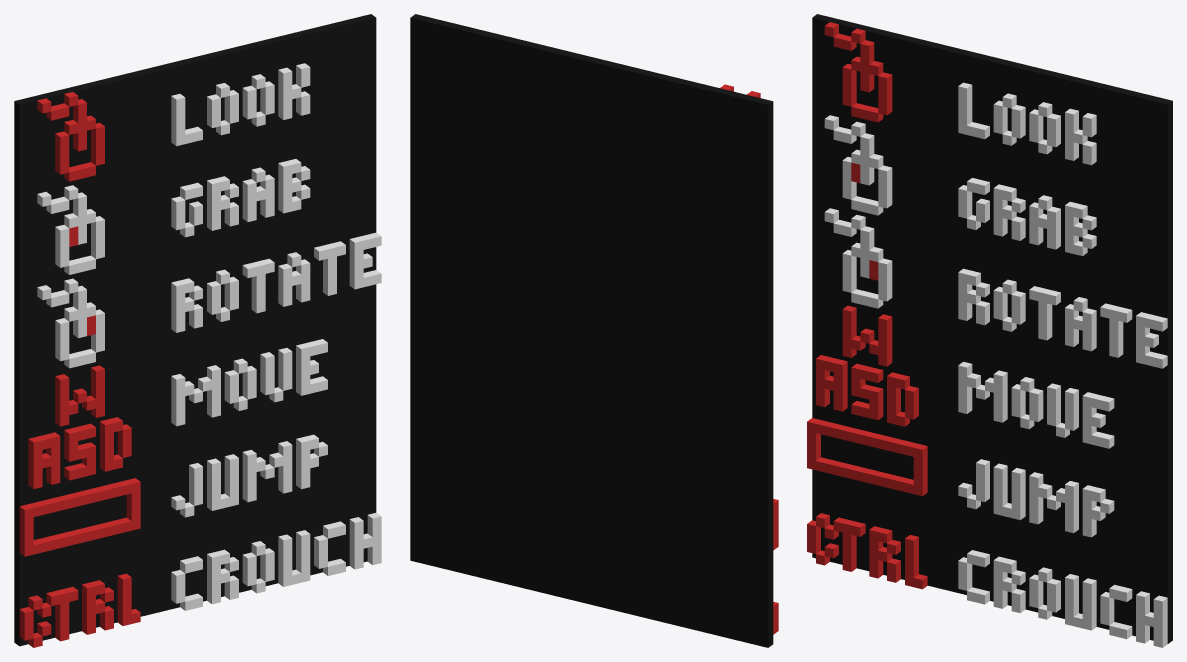
File: controls.obj
The picture shows the model from 3 angles, left to right: view 1: azimuth 30°, elevation 25°; view 2: azimuth 150°, elevation 25°; view 3: azimuth 330°, elevation 25°; orthographic projection.
Bounding box in the file's own units: 4 × 5.8 × 0.2.
Materials: 1 (1 with a texture image).
